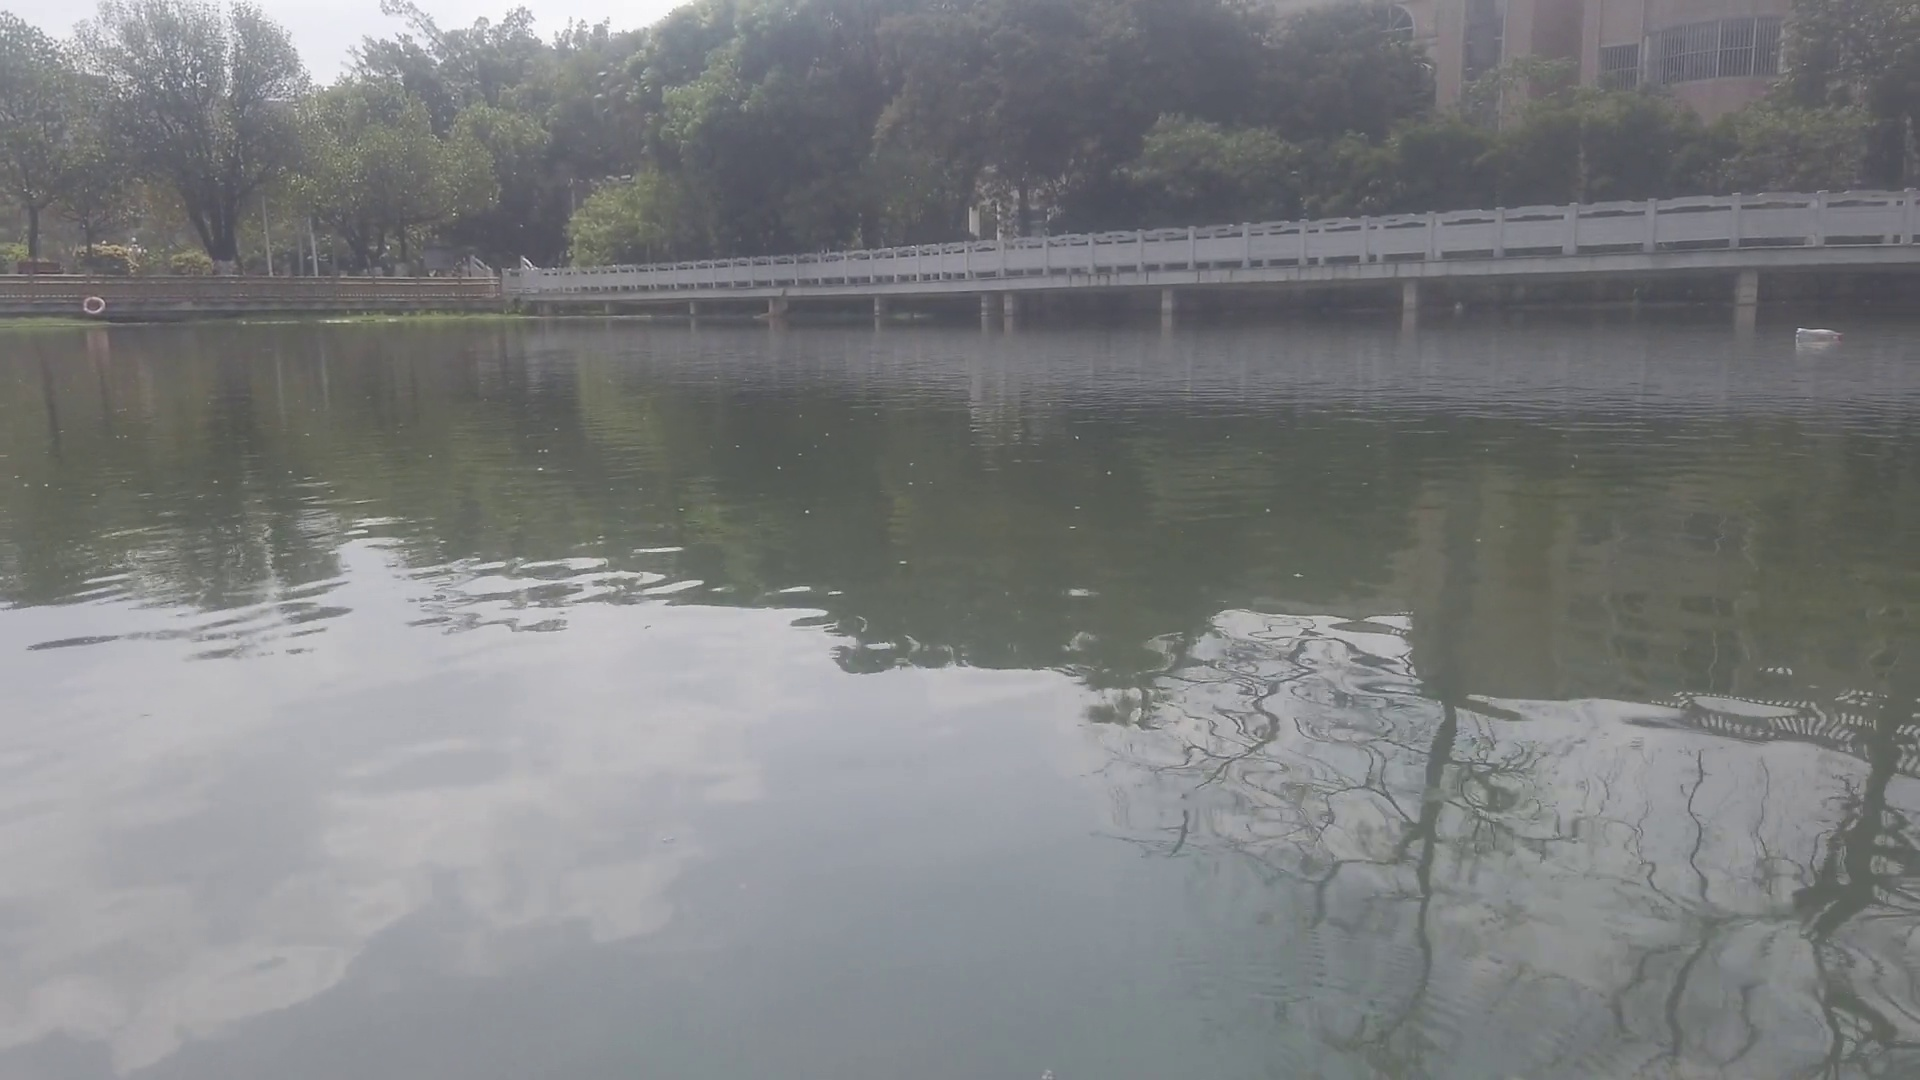bottle: (1793, 326, 1845, 347)
